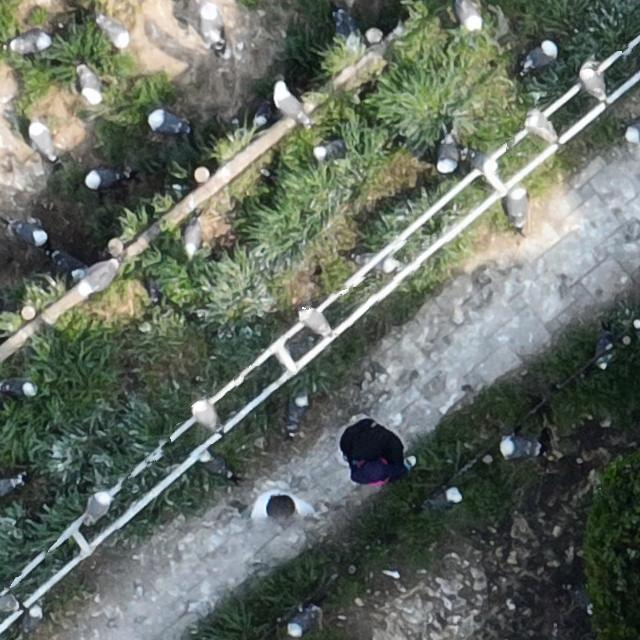umineko: (196, 5, 232, 59), (80, 258, 119, 299), (525, 106, 562, 149), (192, 401, 228, 437), (467, 149, 506, 179), (274, 84, 300, 120), (526, 41, 557, 69), (31, 124, 55, 156), (150, 111, 183, 134), (16, 221, 47, 245), (103, 19, 130, 46), (508, 189, 527, 226), (10, 34, 49, 52), (438, 137, 457, 172), (459, 1, 481, 31), (300, 309, 328, 332), (86, 168, 118, 188), (78, 68, 98, 100), (582, 70, 604, 96), (88, 491, 108, 519), (4, 378, 35, 396), (289, 395, 307, 425), (502, 439, 532, 457), (186, 220, 202, 253), (201, 457, 227, 476), (255, 100, 272, 128), (431, 488, 458, 504), (24, 607, 41, 632), (314, 141, 337, 158), (290, 615, 309, 635), (0, 477, 16, 496), (376, 258, 396, 273), (624, 123, 639, 142), (383, 569, 402, 580)
